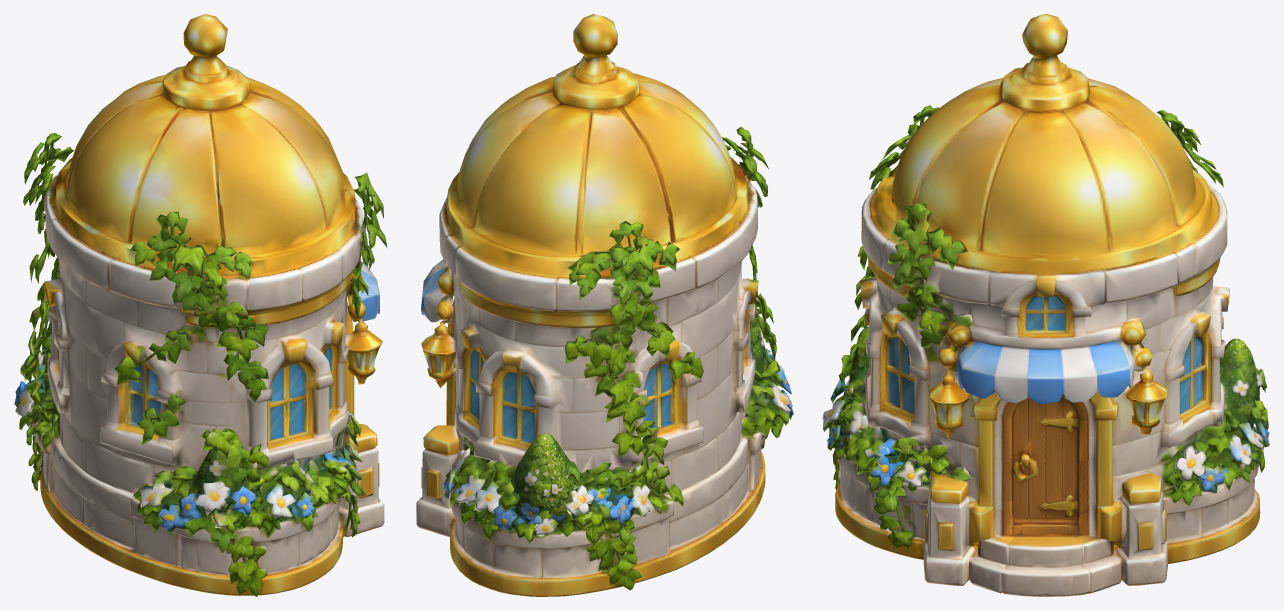
File: HaloDomeHouse_09_HD_src.glb
The picture shows the model from 3 angles, left to right: view 1: azimuth 30°, elevation 25°; view 2: azimuth 150°, elevation 25°; view 3: azimuth 270°, elevation 25°; orthographic projection. The views are drawn at different scales.
Visible parts, largest first — view 1: tripo_node_e5af59bb-772b-4072-947e-6810aeeeff21; view 2: tripo_node_e5af59bb-772b-4072-947e-6810aeeeff21; view 3: tripo_node_e5af59bb-772b-4072-947e-6810aeeeff21.
Part boxes in pixels (bbox=[...]): tripo_node_e5af59bb-772b-4072-947e-6810aeeeff21: bbox=[14, 14, 387, 596]; tripo_node_e5af59bb-772b-4072-947e-6810aeeeff21: bbox=[416, 14, 793, 596]; tripo_node_e5af59bb-772b-4072-947e-6810aeeeff21: bbox=[822, 14, 1269, 596].
Size of the model in its own units: 0.5954 by 0.9814 by 0.7805.
Materials: 1 (1 with a texture image).
